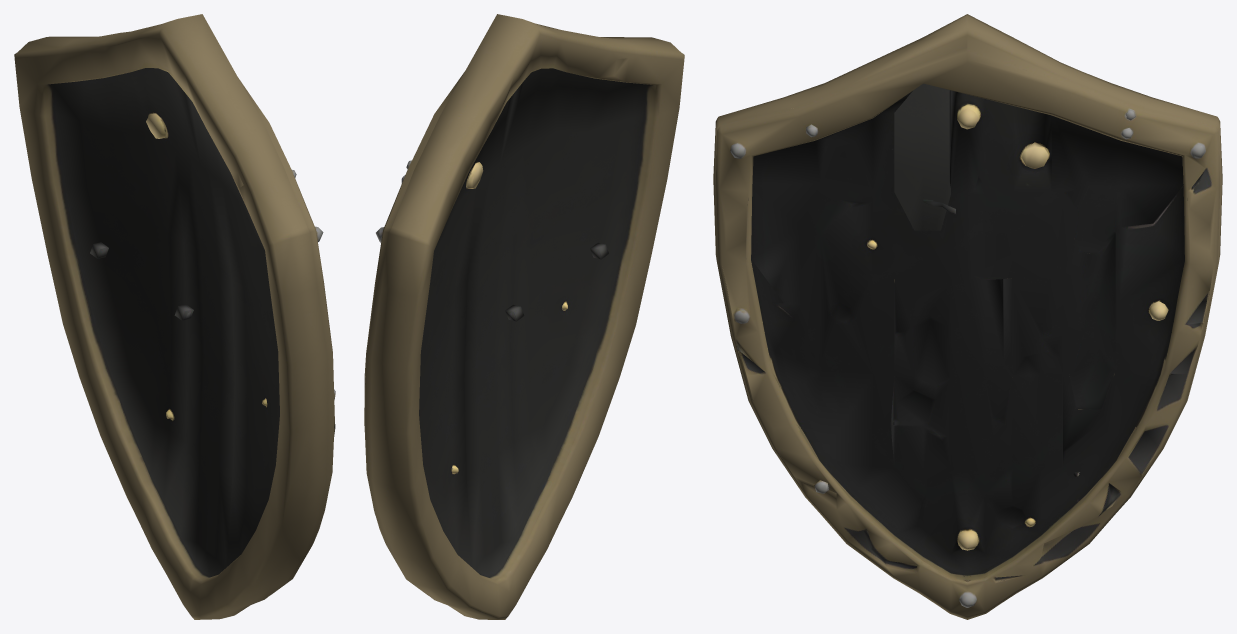
The model's file is plank_shield.glb.
The picture shows the model from 3 angles, left to right: view 1: azimuth 30°, elevation 25°; view 2: azimuth 150°, elevation 25°; view 3: azimuth 270°, elevation 25°; orthographic projection. The views are drawn at different scales.
Visible parts, largest first — view 1: base_model_path; view 2: base_model_path; view 3: base_model_path.
Boxes of the visible parts, bbox=[...] form: base_model_path: bbox=[14, 14, 335, 619]; base_model_path: bbox=[364, 14, 684, 619]; base_model_path: bbox=[713, 14, 1222, 619].
Size of the model in its own units: 0.1899 by 1 by 0.7927.
Materials: 1 (1 with a texture image).
